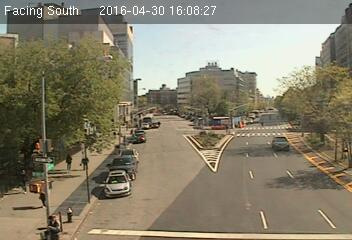neg: (122, 161, 144, 189), (61, 37, 77, 58), (98, 50, 114, 71), (289, 192, 304, 212), (223, 45, 238, 65), (132, 27, 147, 46), (269, 132, 282, 151), (188, 127, 200, 143), (183, 73, 195, 88), (340, 142, 351, 158), (143, 120, 150, 129), (260, 121, 265, 127)
pos: (13, 165, 34, 193), (59, 150, 78, 175), (36, 187, 51, 206), (45, 215, 59, 234), (77, 151, 91, 169)
